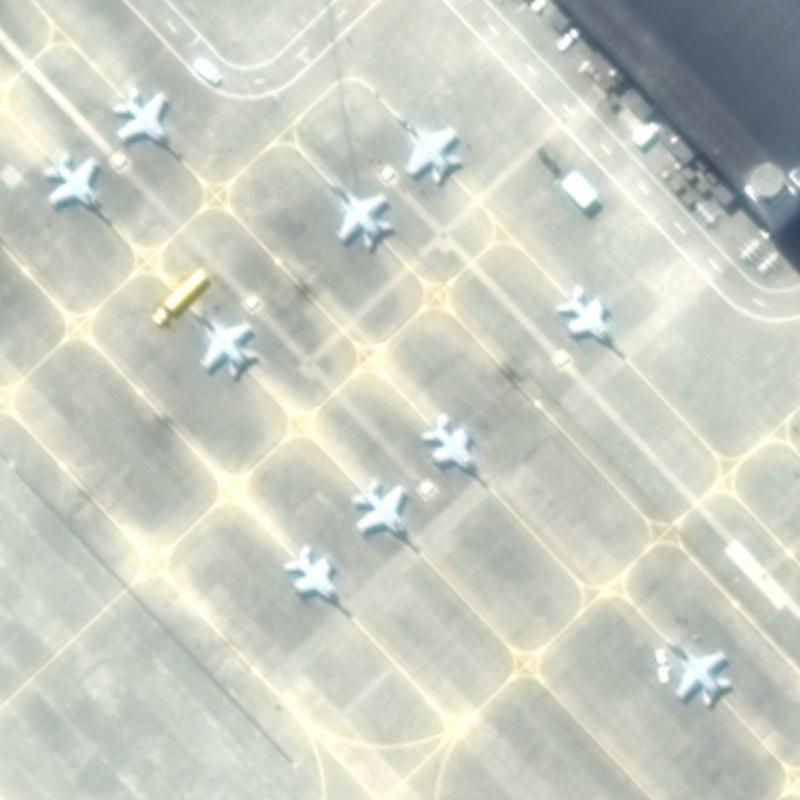A16: (380, 96, 472, 191), (343, 471, 427, 561), (184, 297, 266, 389), (272, 540, 358, 624), (656, 627, 739, 713), (315, 170, 397, 256), (34, 144, 116, 226), (107, 82, 184, 164), (414, 410, 489, 491), (556, 283, 624, 361)
